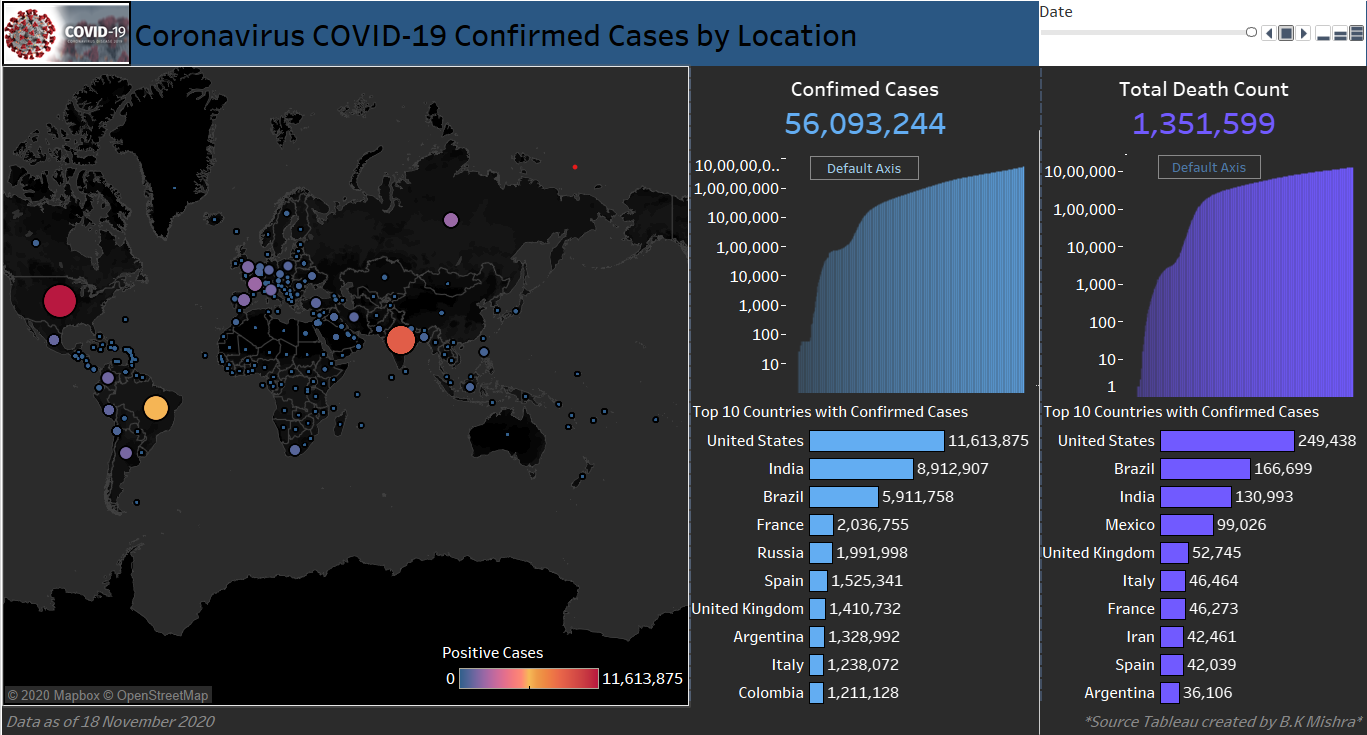

What the dashboard file says about the page in this screenshot:
{"tool":"tableau","page":{"name":"Dashboard (2)","canvas":[1366,768],"ordinal":1},"visuals":[{"type":"image","param":"C:/Users/biswa/Desktop/Covid-19.png","box":[1,1,129,65]},{"type":"text","box":[130,1,1237,65]},{"type":"currpage","title":"Map","box":[1038,1,328,65]},{"type":"worksheet","title":"Map","mark":"Automatic","box":[1,66,687,640]},{"type":"worksheet","title":"Confirmed Cases Ban","mark":"Automatic","box":[688,66,351,85]},{"type":"worksheet","title":"Death Count","mark":"Automatic","box":[1039,66,328,85]},{"type":"worksheet","title":"Confimed Cases","mark":"Automatic","rows":["PEOPLE_POSITIVE_CASES_COUNT","PEOPLE_POSITIVE_CASES_COUNT"],"cols":["REPORT_DATE"],"box":[688,151,351,246]},{"type":"worksheet","title":"Confirmed Deaths","mark":"Area","rows":["PEOPLE_DEATH_COUNT","PEOPLE_DEATH_COUNT"],"cols":["REPORT_DATE"],"box":[1039,151,328,246]},{"type":"text","box":[688,397,351,29]},{"type":"text","box":[1039,397,328,29]},{"type":"worksheet","title":"Confimed Cases Bars","mark":"Automatic","rows":["COUNTRY_SHORT_NAME"],"cols":["PEOPLE_POSITIVE_CASES_COUNT"],"box":[688,426,351,280]},{"type":"worksheet","title":"Confimed Deaths Bars ","mark":"Automatic","rows":["COUNTRY_SHORT_NAME"],"cols":["PEOPLE_DEATH_COUNT"],"box":[1039,426,328,280]},{"type":"legend","title":"Map","param":"[federated.1mqul060he513o0zuleez16u6a84].[sum:PEOPLE_POSITIVE_CASES_COUNT:qk]","box":[441,642,246,88]},{"type":"text","box":[1,706,681,30]},{"type":"text","box":[682,706,685,30]}]}

Visuals, with their boxes on the page's 1366x768 design canvas (x1, y1, x2, y2). These are canvas units, not pixel positions in the 1367x735 screenshot, which may show the page scaled, cropped or inside an application window:
image: 1/1/130/66
text: 130/1/1367/66
"Map" currpage: 1038/1/1366/66
"Map" worksheet: 1/66/688/706
"Confirmed Cases Ban" worksheet: 688/66/1039/151
"Death Count" worksheet: 1039/66/1367/151
"Confimed Cases" worksheet: 688/151/1039/397
"Confirmed Deaths" worksheet (Area marks): 1039/151/1367/397
text: 688/397/1039/426
text: 1039/397/1367/426
"Confimed Cases Bars" worksheet: 688/426/1039/706
"Confimed Deaths Bars " worksheet: 1039/426/1367/706
"Map" legend: 441/642/687/730
text: 1/706/682/736
text: 682/706/1367/736
